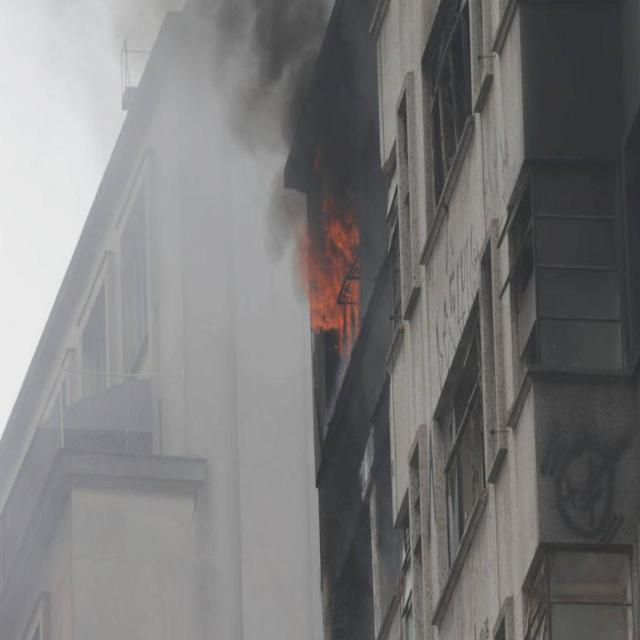fire: (308, 220, 359, 330)
smoke: (220, 9, 314, 120)
